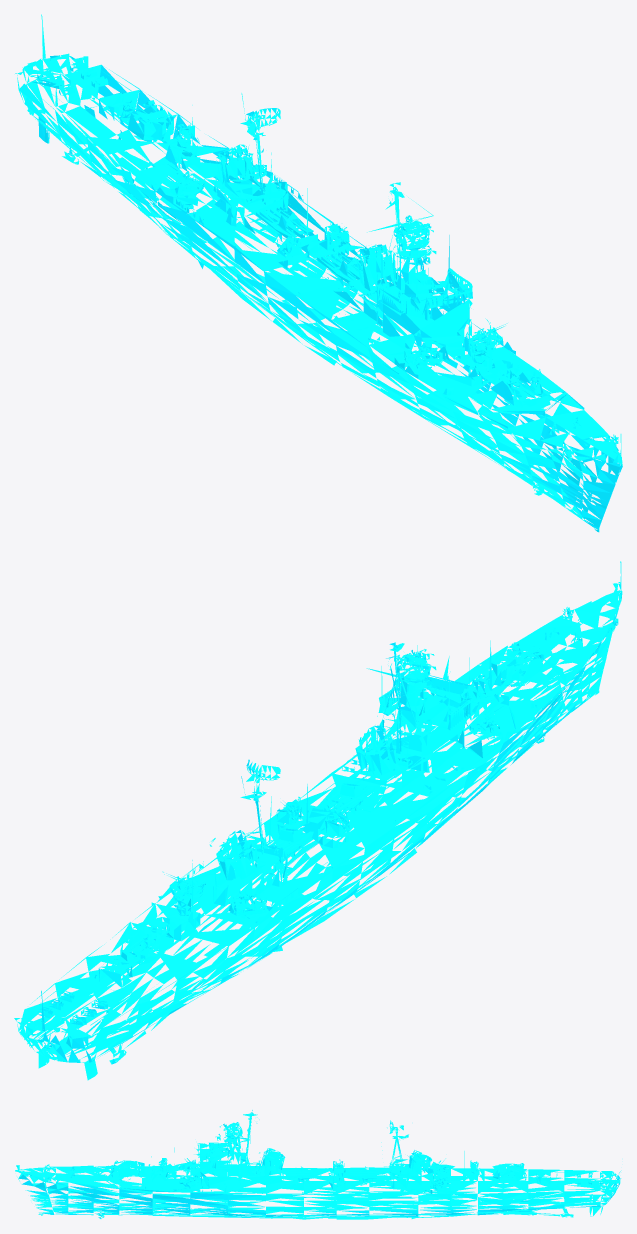
Rendered from Pr_Neustrashimy.glb.
The picture shows the model from 3 angles, top to bottom: view 1: azimuth 30°, elevation 25°; view 2: azimuth 150°, elevation 25°; view 3: azimuth 270°, elevation 25°; orthographic projection. The views are drawn at different scales.
Size of the model in its own units: 0.903 by 1.76 by 8.97.
